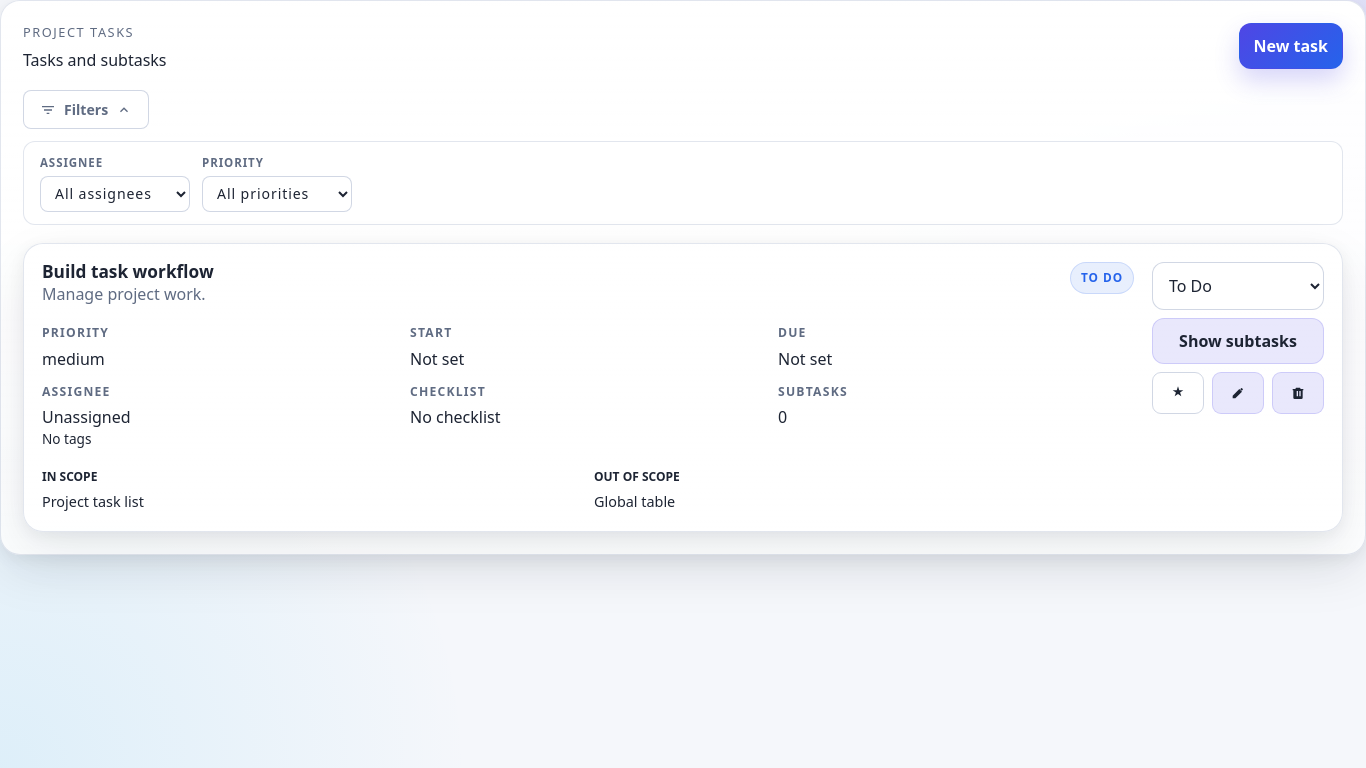
Test case: ProjectTasksPanel top-level layout › opens task editing in a focused dialog and hides the task card underneath
This screenshot has width=1366, height=768.
Expected: the heading "Build task workflow" is shown, x1=42 y1=262 x2=214 y2=282
Note: Open edit for the existing task
Click the button named "Edit" at {"x": 1238, "y": 393}, box x1=1212 y1=372 x2=1264 y2=414
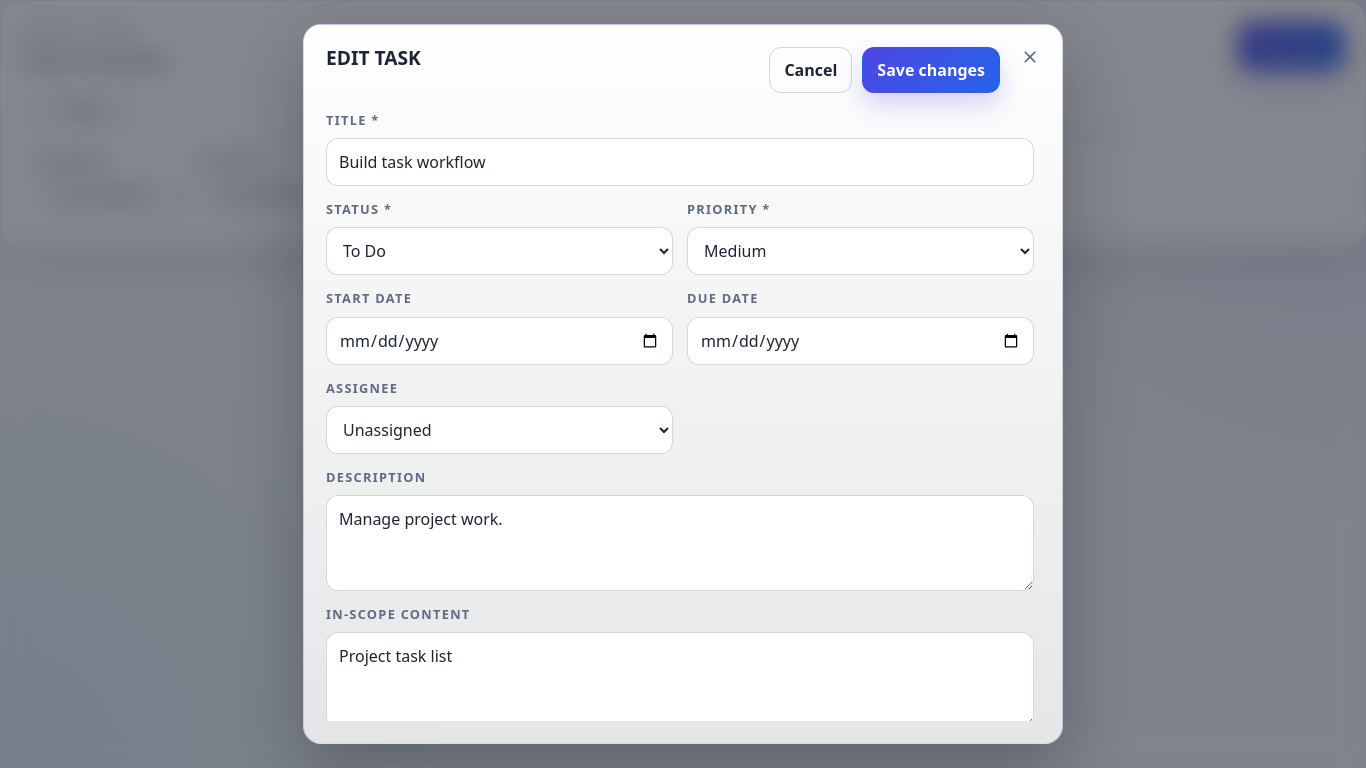
Expected: the dialog "EDIT TASK" is shown, x1=303 y1=24 x2=1063 y2=744
Replace the text in the field labelled "Title *" with "Updated task workflow" at {"x": 680, "y": 162}, box x1=326 y1=138 x2=1034 y2=186
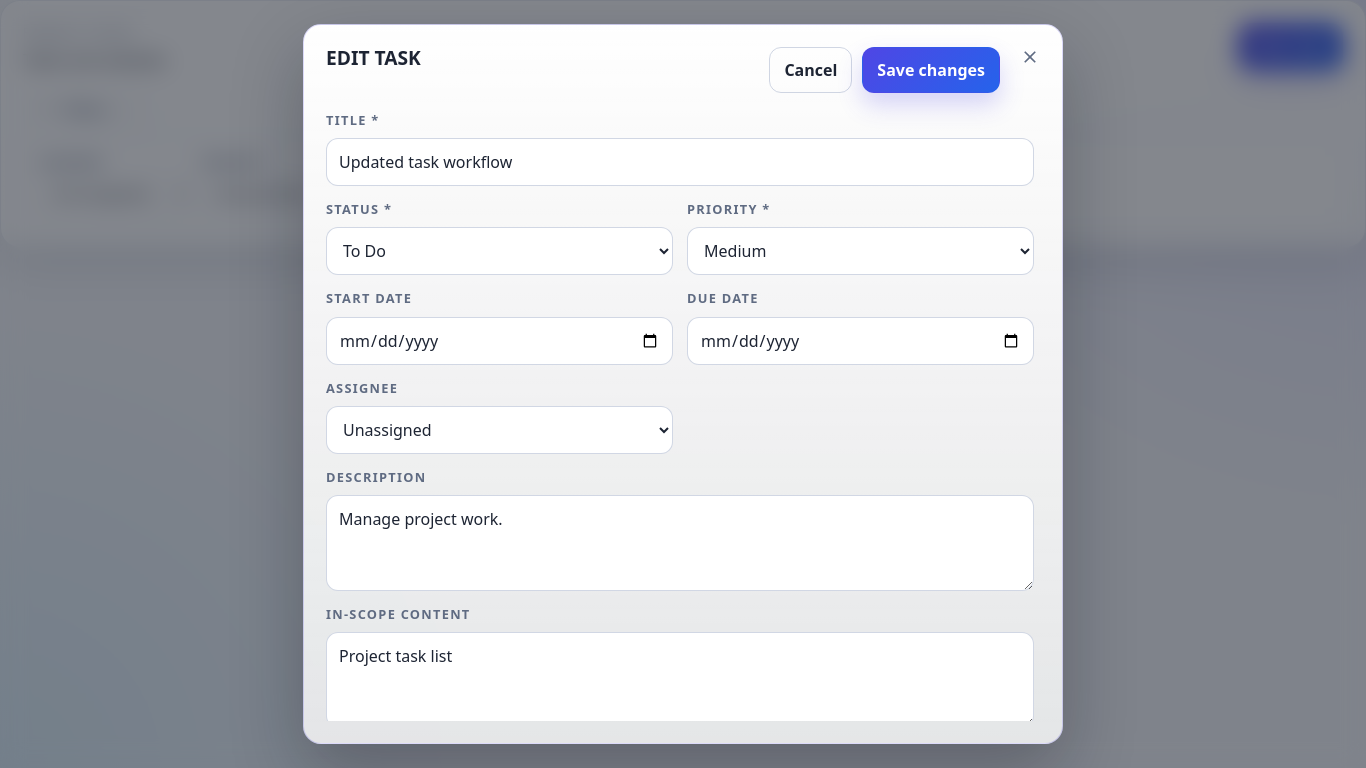
Click the button "Save changes" at {"x": 931, "y": 70}, box x1=862 y1=47 x2=1000 y2=93
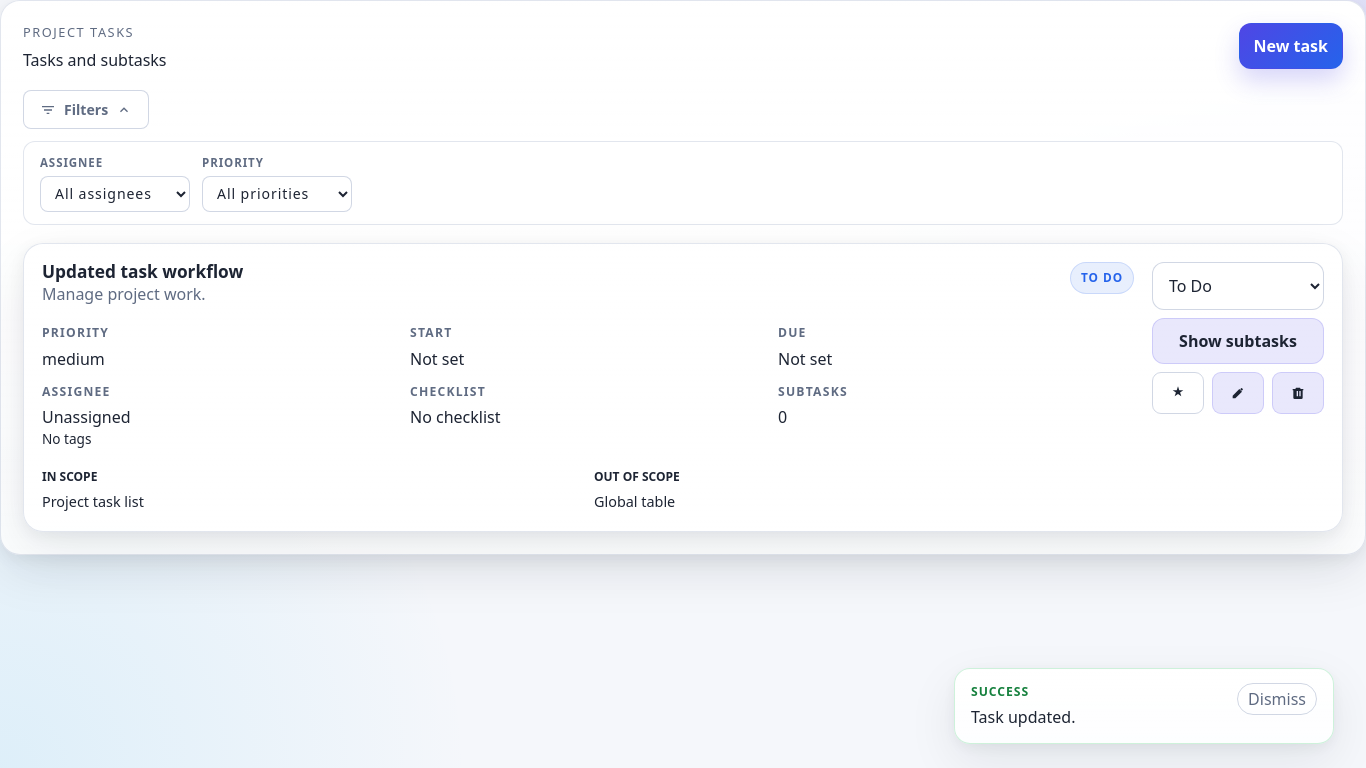
Expected: the heading "Updated task workflow" is shown, x1=42 y1=262 x2=243 y2=282
Expected: the message shows "Task updated.", x1=971 y1=706 x2=1075 y2=728
